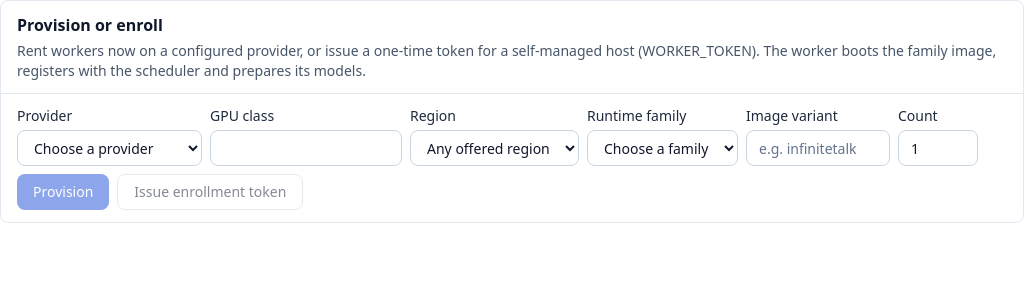
Test: GPU console › provisioning has no default provider and asks before renting a paid GPU
This screenshot has width=1024, height=306.
Expected: the button "Provision" is disabled, [17,174,109,210]
Select "Vast EU (vast) — paid" in the dropdown labelled "Provider" at (110, 148), box [17,130,202,166]
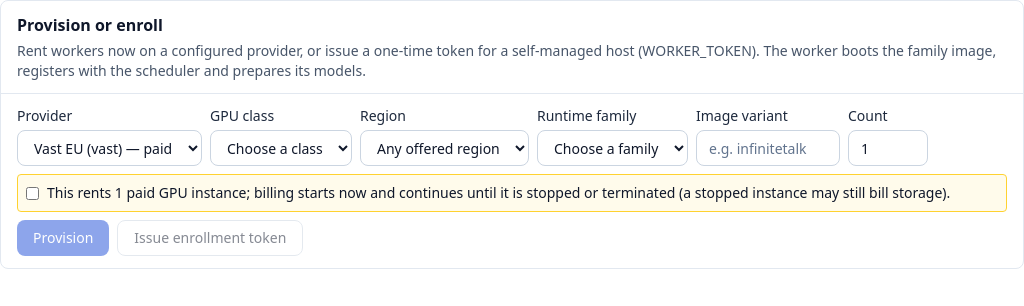
Select "a100_80gb" in the dropdown labelled "GPU class" at (281, 148), box [210,130,352,166]
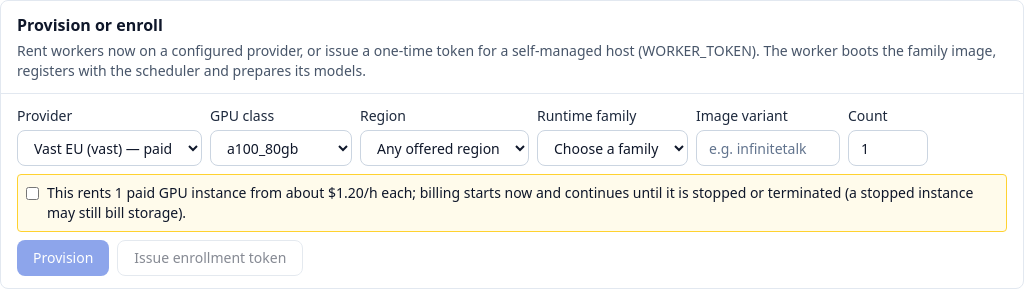
Select "wan" in the dropdown labelled "Runtime family" at (612, 148), box [537,130,688,166]
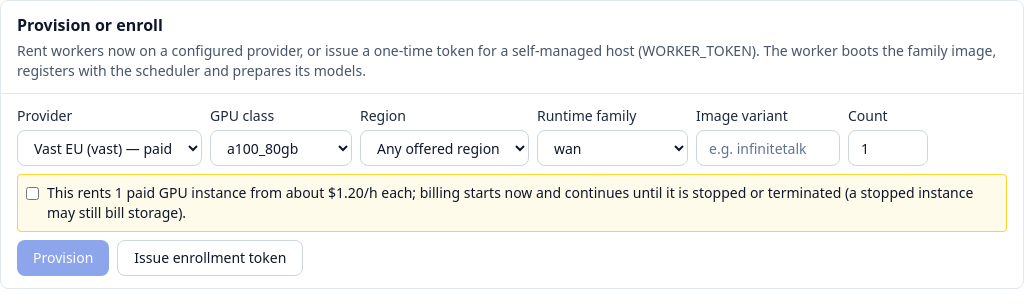
Expected: the button "Provision" is disabled, [17,240,109,276]
Click the checkbox labelled "billing starts now" at (32, 194), box [26,187,39,200]
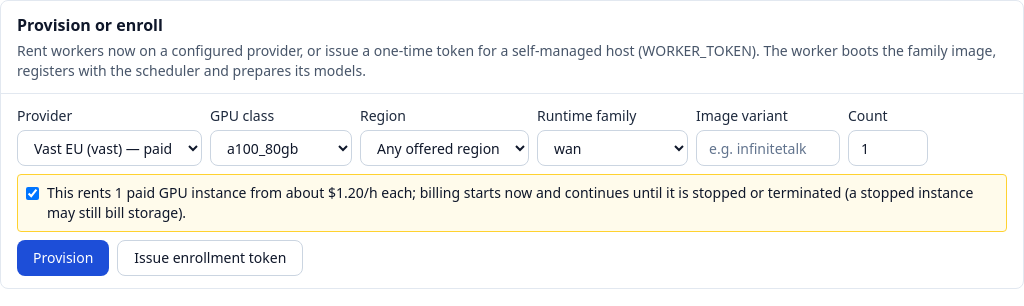
Now the button "Provision" is enabled, box [17,240,109,276]
